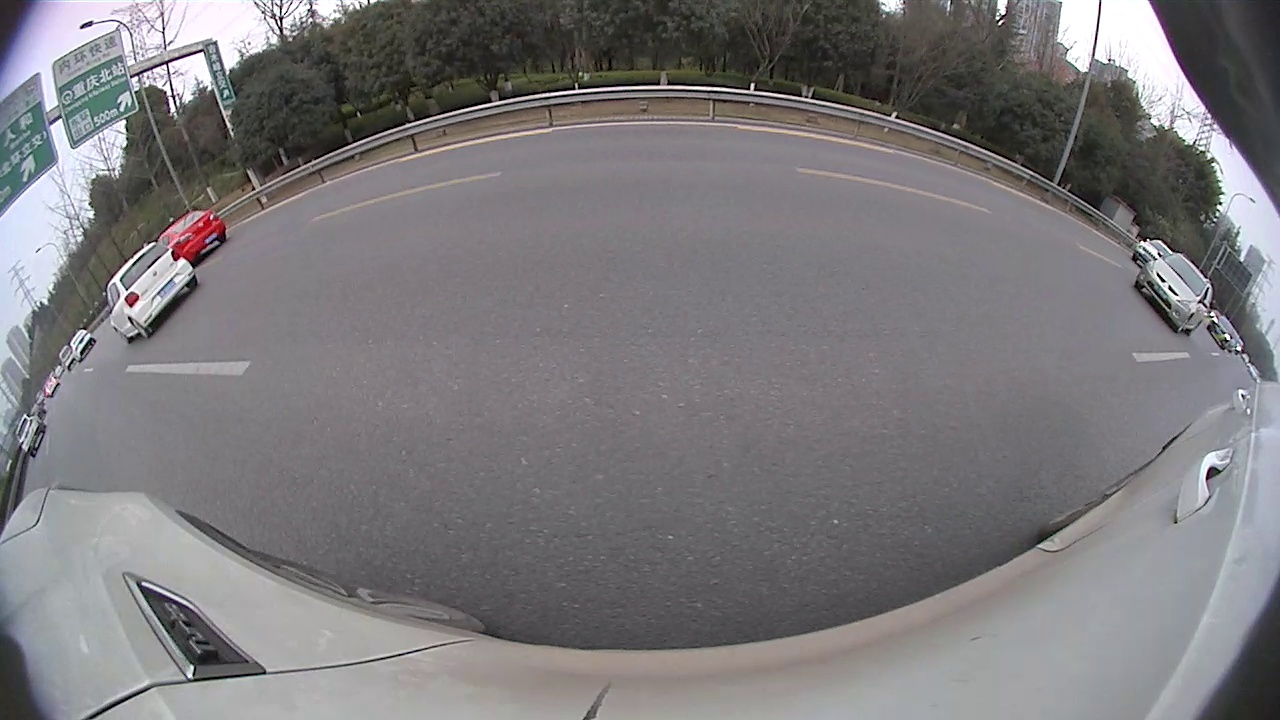bus: (843, 97, 1278, 381), (742, 132, 871, 202)
car: (586, 119, 754, 242), (446, 135, 570, 223), (1232, 313, 1279, 393), (746, 158, 788, 198), (557, 159, 593, 191)
front: (875, 185, 902, 222), (559, 176, 570, 202)
rear: (1038, 232, 1095, 299), (533, 182, 545, 214), (791, 175, 807, 194)
